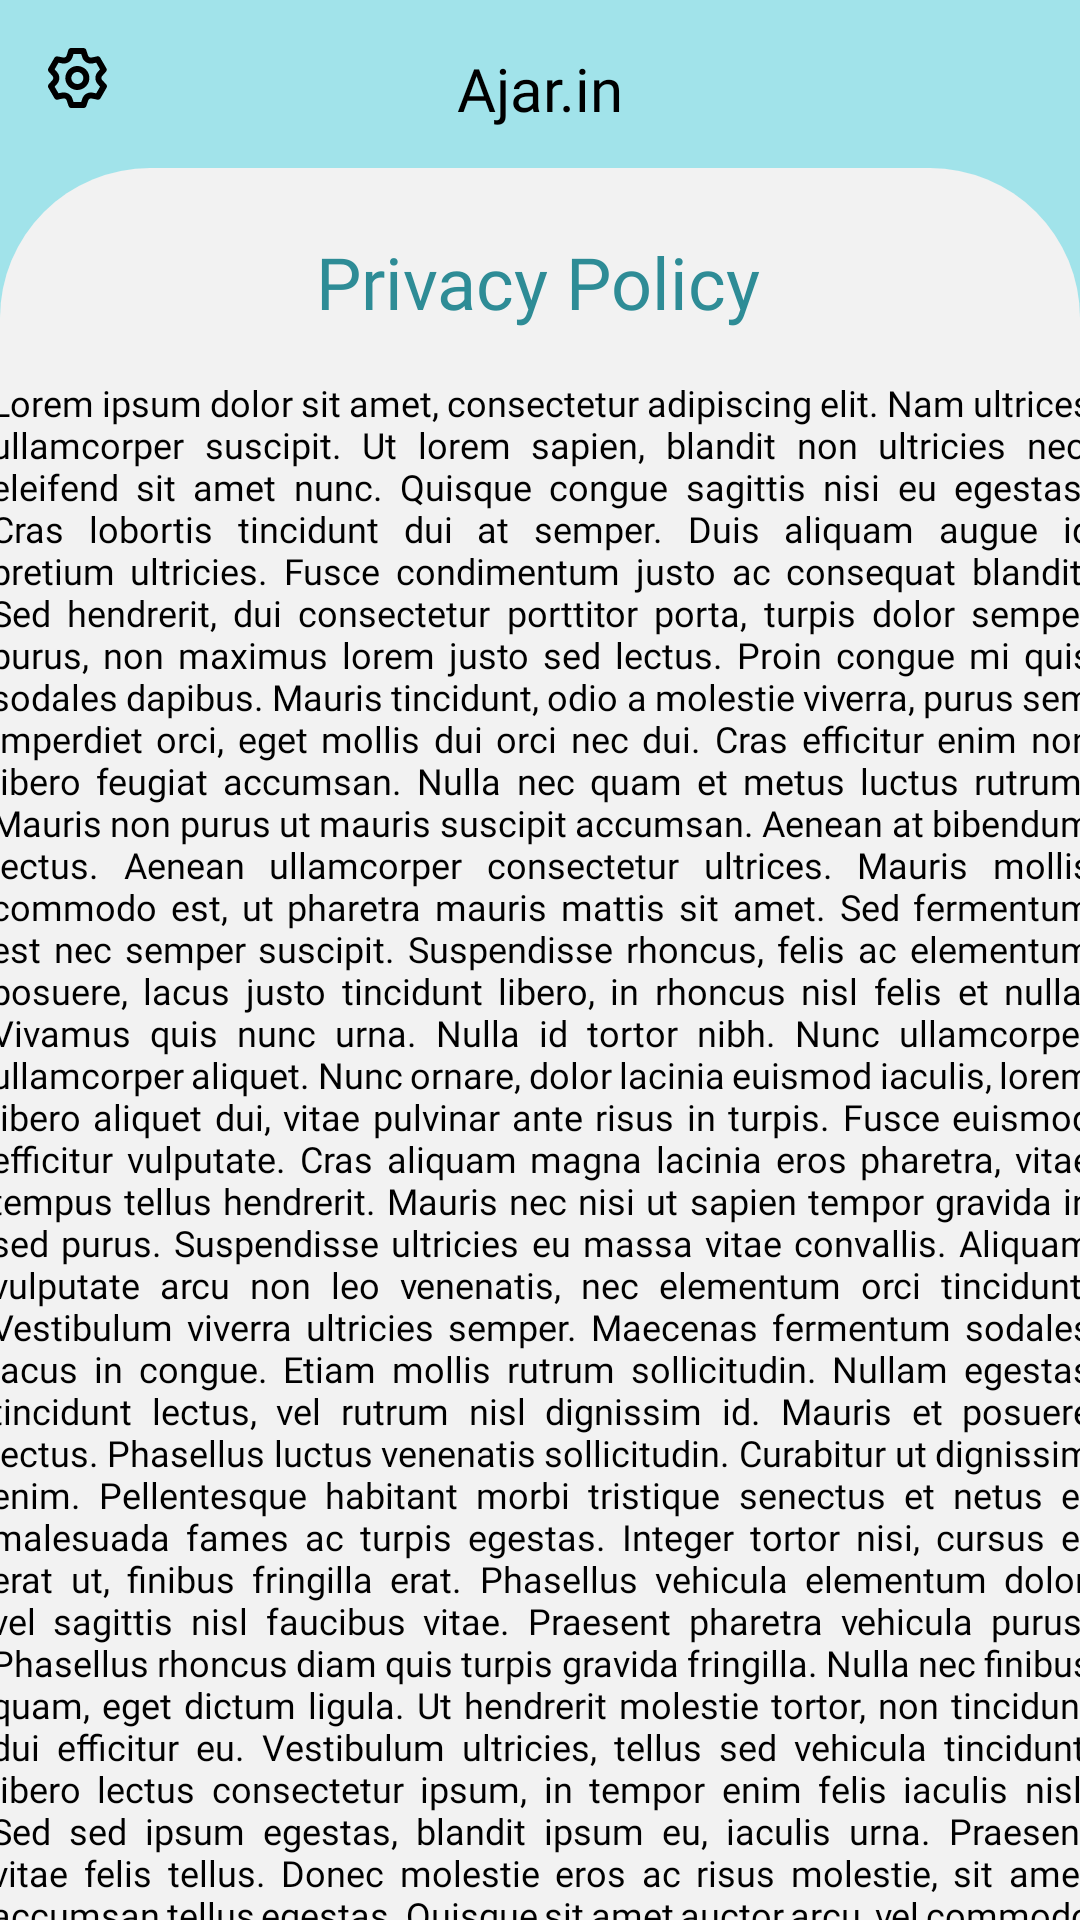

Icon bounding boxes for this 1080×1920 phone screenshot, format [left=x1, top=y1, right=x2, bottom=y2]:
settings: [left=48, top=48, right=107, bottom=108]
